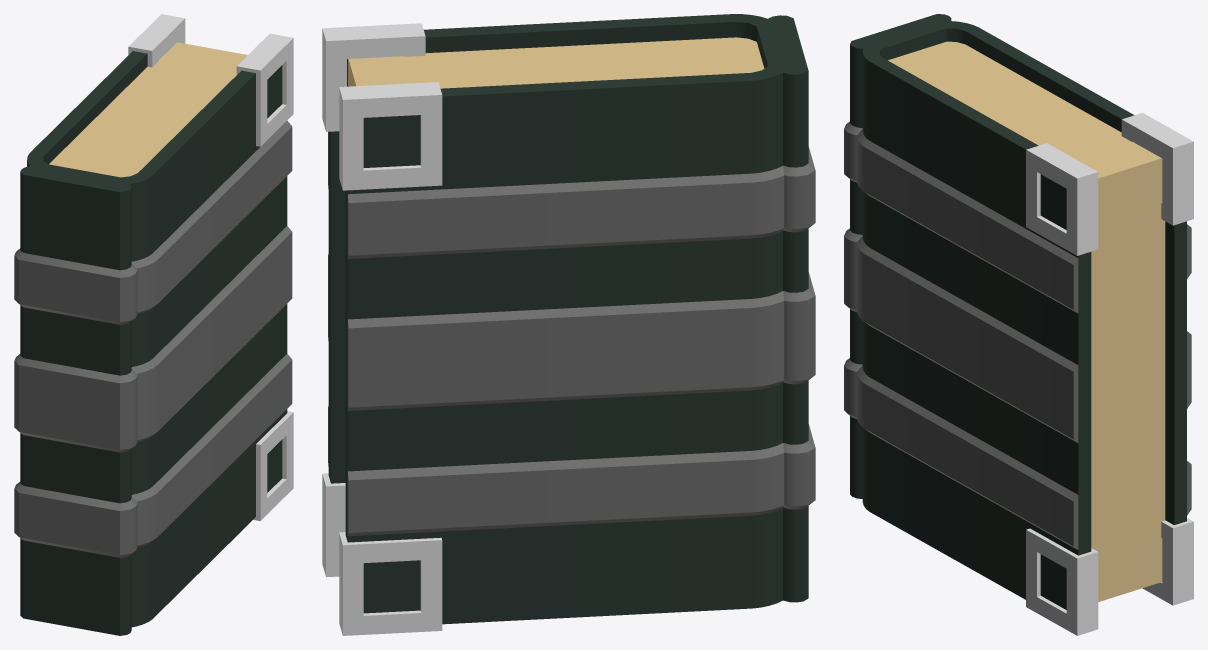
Rendered from obj_Book_06.fbx.
3 views of the same model, side by side, from view 1: azimuth 30°, elevation 25°; view 2: azimuth 150°, elevation 25°; view 3: azimuth 270°, elevation 25° (orthographic). The views are drawn at different scales.
Visible parts, largest first — view 1: Book_06, Book_EdgePattern.014; view 2: Book_06, Book_EdgePattern.014; view 3: Book_06, Book_EdgePattern.014.
Boxes of the visible parts, box(x1,y1,x2,y2) form: Book_06: box(14, 42, 292, 635); Book_EdgePattern.014: box(128, 14, 293, 520); Book_06: box(328, 14, 815, 624); Book_EdgePattern.014: box(322, 23, 442, 635); Book_06: box(844, 14, 1191, 609); Book_EdgePattern.014: box(1026, 113, 1193, 635).
Size of the model in its own units: 0.2383 by 0.2979 by 0.2065.
